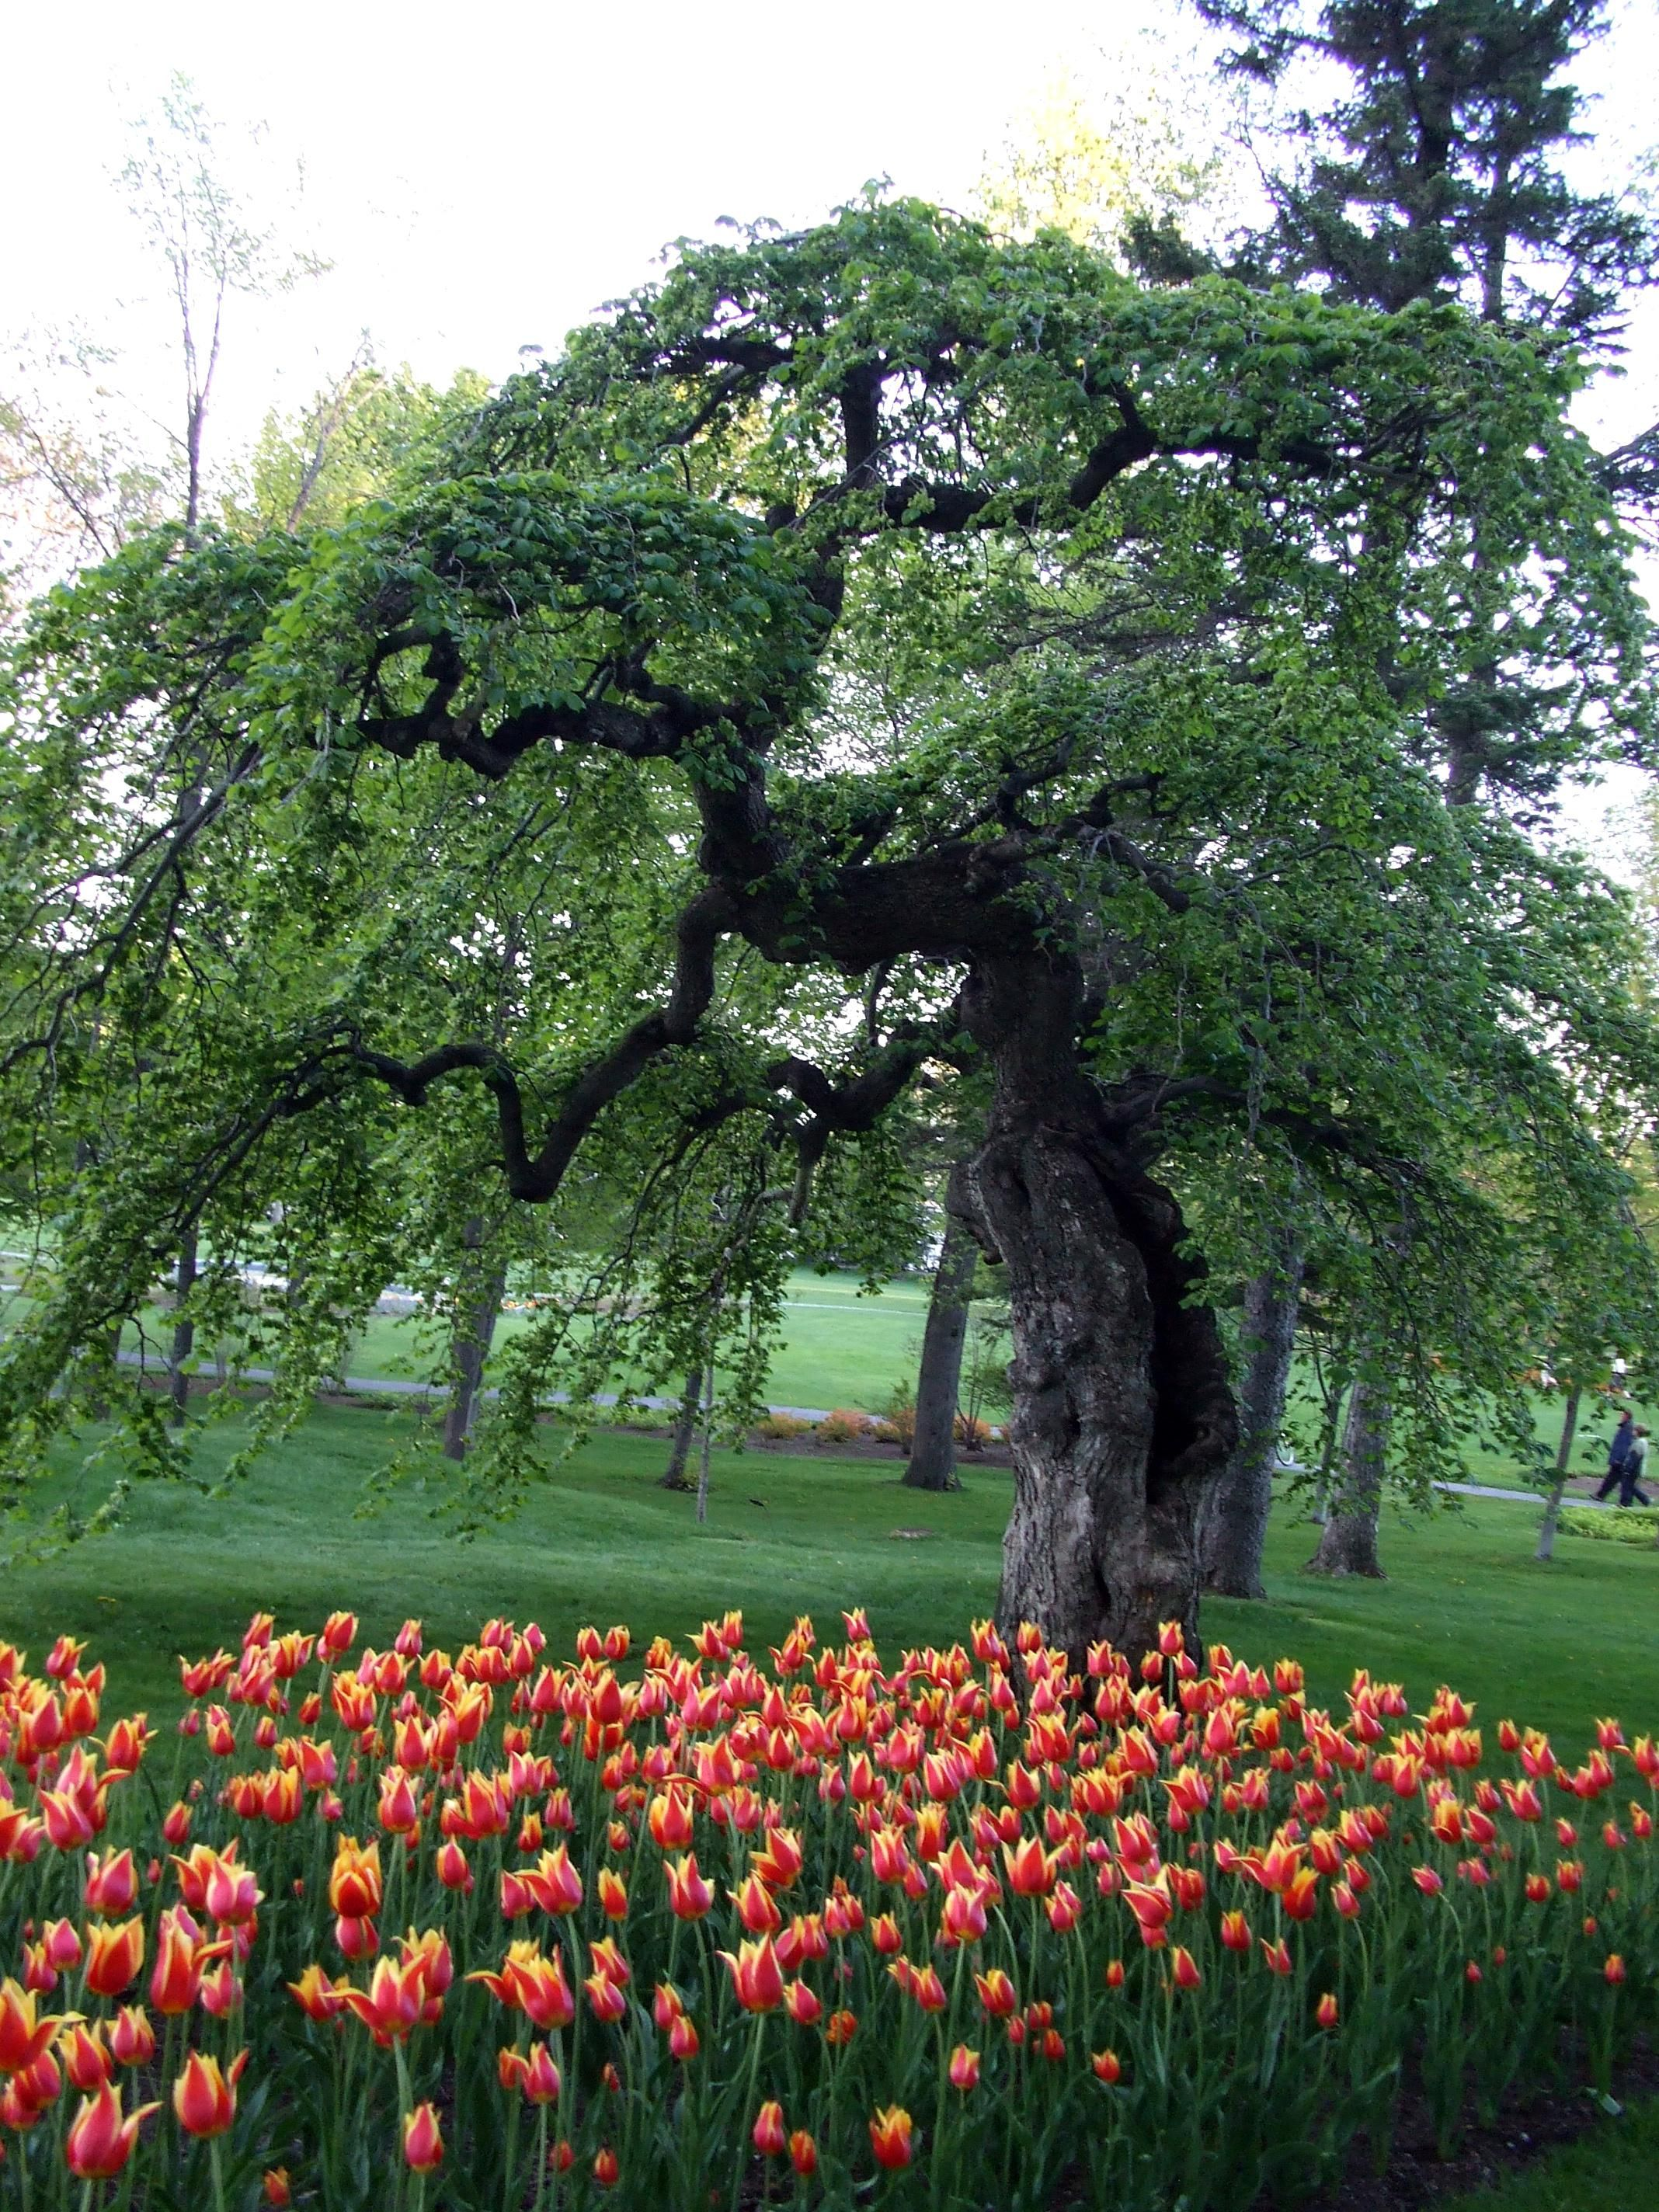grass: (35, 1472, 993, 1634), (1276, 1548, 1650, 1709)
tree: (1007, 1268, 1239, 1655)
